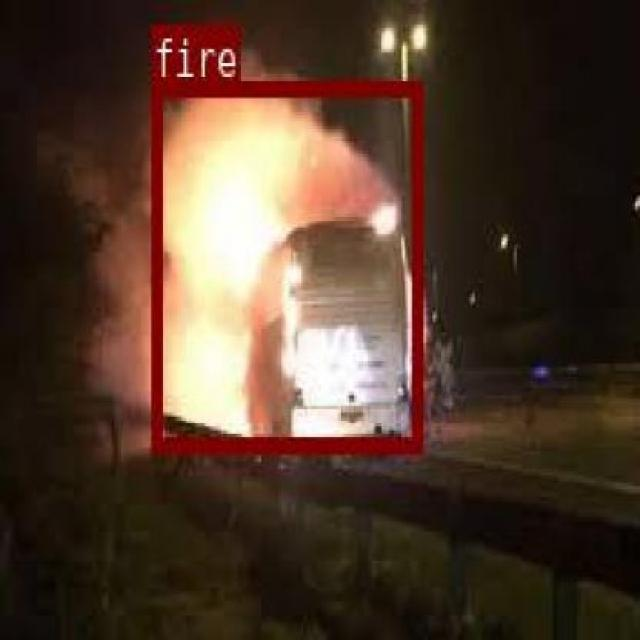fire: (150, 77, 422, 450)
